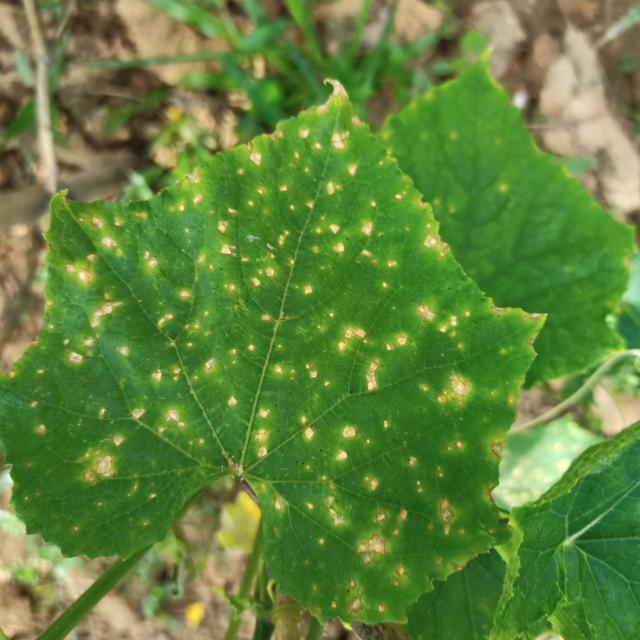disease_cucumber: (165, 120, 481, 408), (46, 211, 334, 496), (256, 360, 501, 611)
